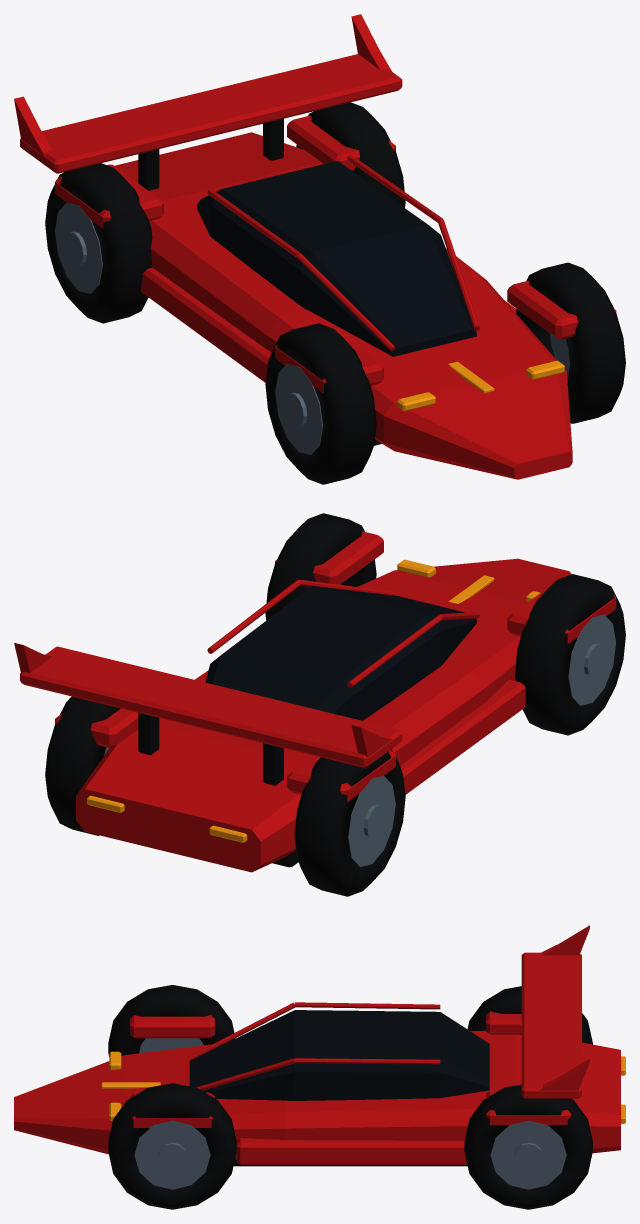
Rendered from cb_carro.obj.
The picture shows the model from 3 angles, top to bottom: view 1: azimuth 30°, elevation 25°; view 2: azimuth 150°, elevation 25°; view 3: azimuth 270°, elevation 25°; orthographic projection. The views are drawn at different scales.
Visible parts, largest first — view 1: cb_carro; view 2: cb_carro; view 3: cb_carro.
Boxes of the visible parts, x1=… form: cb_carro: x1=14, y1=14, x2=625, y2=484; cb_carro: x1=14, y1=513, x2=625, y2=896; cb_carro: x1=14, y1=925, x2=625, y2=1209.
Bounding box in the file's own units: 3.24 × 1.78 × 6.1.
